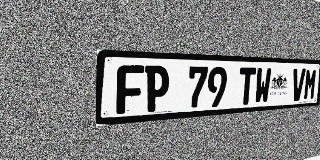7: (186, 66, 208, 109)
9: (207, 67, 228, 108)
F: (116, 65, 144, 114)
M: (303, 69, 317, 100)
P: (144, 65, 170, 112)
T: (238, 67, 256, 105)
V: (290, 68, 306, 101)
W: (254, 68, 272, 104)
